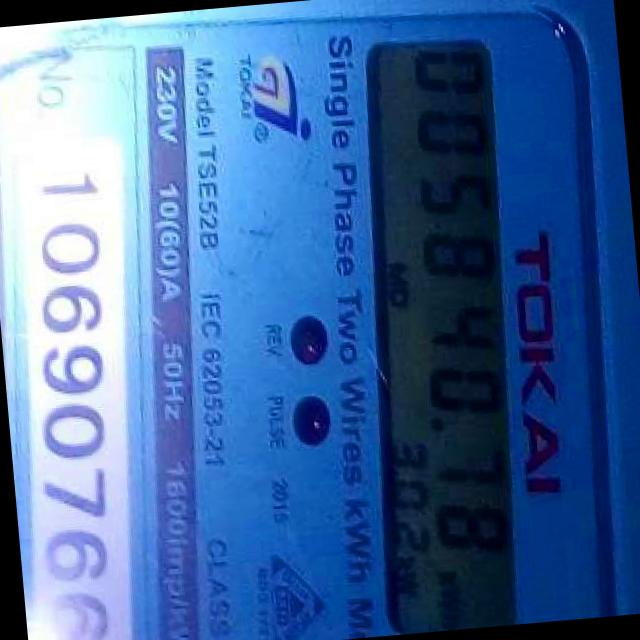LCD: (330, 30, 547, 636)
